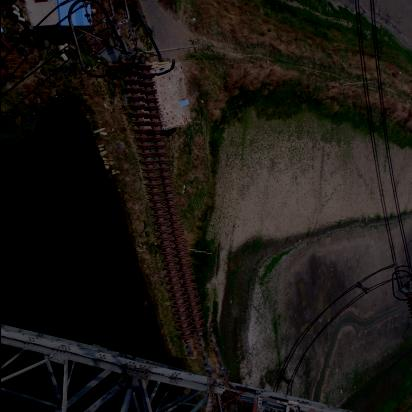insulator: (99, 57, 228, 358)
